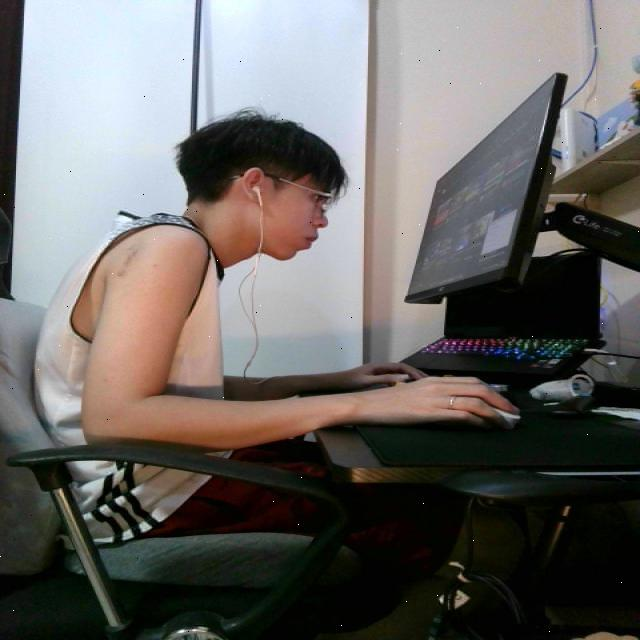Bad: (22, 106, 370, 490)
